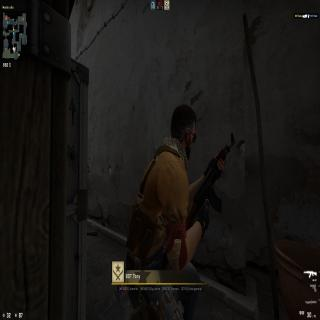T-Head: (170, 100, 198, 164)
